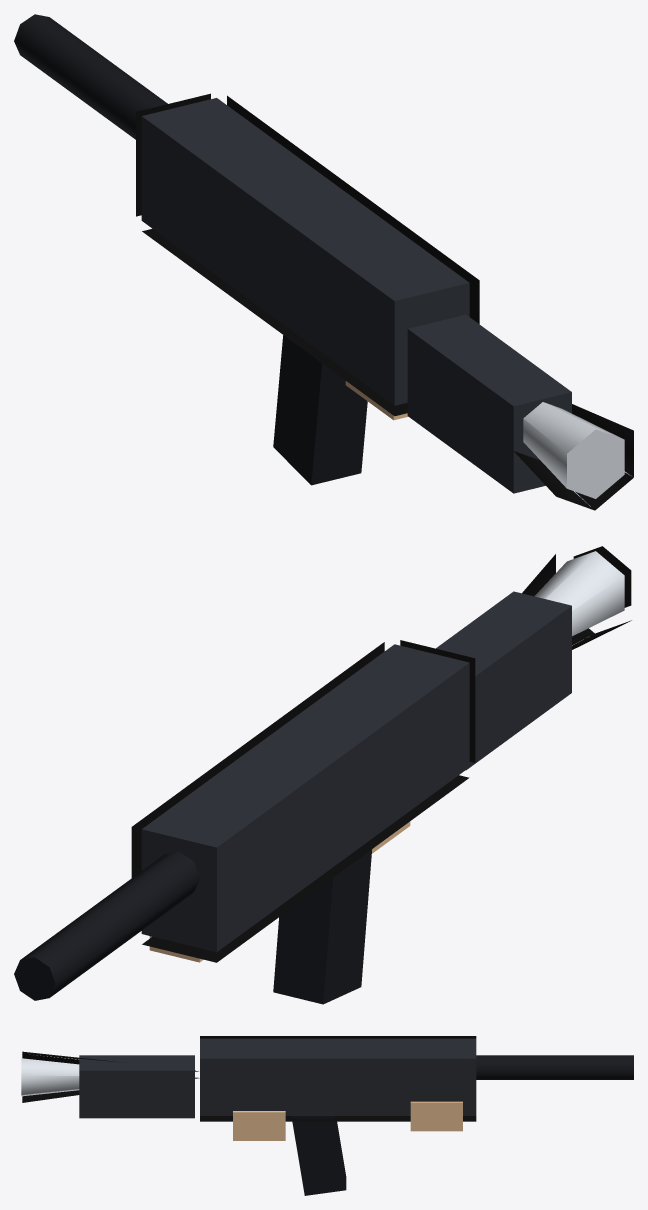
File: weapon_lmg.glb
3 renders of one model, top to bottom at view 1: azimuth 30°, elevation 25°; view 2: azimuth 150°, elevation 25°; view 3: azimuth 270°, elevation 25°, orthographic. The views are drawn at different scales.
Visible parts, largest first — view 1: weapon_lmg__part_2, weapon_lmg__part_6, weapon_lmg__part_5, weapon_lmg__part_4, weapon_lmg__outline_3, weapon_lmg__part_12, weapon_lmg__outline_13; view 2: weapon_lmg__part_2, weapon_lmg__part_6, weapon_lmg__part_5, weapon_lmg__part_4, weapon_lmg__outline_3, weapon_lmg__part_12, weapon_lmg__outline_13; view 3: weapon_lmg__part_2, weapon_lmg__part_6, weapon_lmg__part_4, weapon_lmg__part_5, weapon_lmg__part_12, weapon_lmg__outline_3, weapon_lmg__part_7, weapon_lmg__part_8, weapon_lmg__outline_13.
Boxes of the visible parts, box(x1,y1,x2,y2) form: weapon_lmg__part_2: box(141, 98, 469, 405); weapon_lmg__part_6: box(407, 314, 571, 493); weapon_lmg__part_5: box(273, 335, 367, 485); weapon_lmg__part_4: box(14, 14, 167, 139); weapon_lmg__outline_3: box(136, 93, 479, 416); weapon_lmg__part_12: box(523, 402, 624, 498); weapon_lmg__outline_13: box(511, 404, 633, 510); weapon_lmg__part_2: box(141, 644, 469, 952); weapon_lmg__part_6: box(436, 591, 571, 770); weapon_lmg__part_5: box(273, 849, 372, 1004); weapon_lmg__part_4: box(14, 851, 199, 1000); weapon_lmg__outline_3: box(131, 640, 475, 962); weapon_lmg__part_12: box(534, 551, 624, 636); weapon_lmg__outline_13: box(522, 546, 631, 649); weapon_lmg__part_2: box(200, 1038, 476, 1115); weapon_lmg__part_6: box(79, 1055, 194, 1118); weapon_lmg__part_4: box(476, 1055, 633, 1079); weapon_lmg__part_5: box(291, 1116, 346, 1195); weapon_lmg__part_12: box(21, 1058, 198, 1096); weapon_lmg__outline_3: box(200, 1036, 476, 1121); weapon_lmg__part_7: box(410, 1101, 462, 1131); weapon_lmg__part_8: box(233, 1111, 285, 1140); weapon_lmg__outline_13: box(22, 1051, 199, 1102).
Size of the model in its own units: 0.114 by 0.307 by 1.18.
